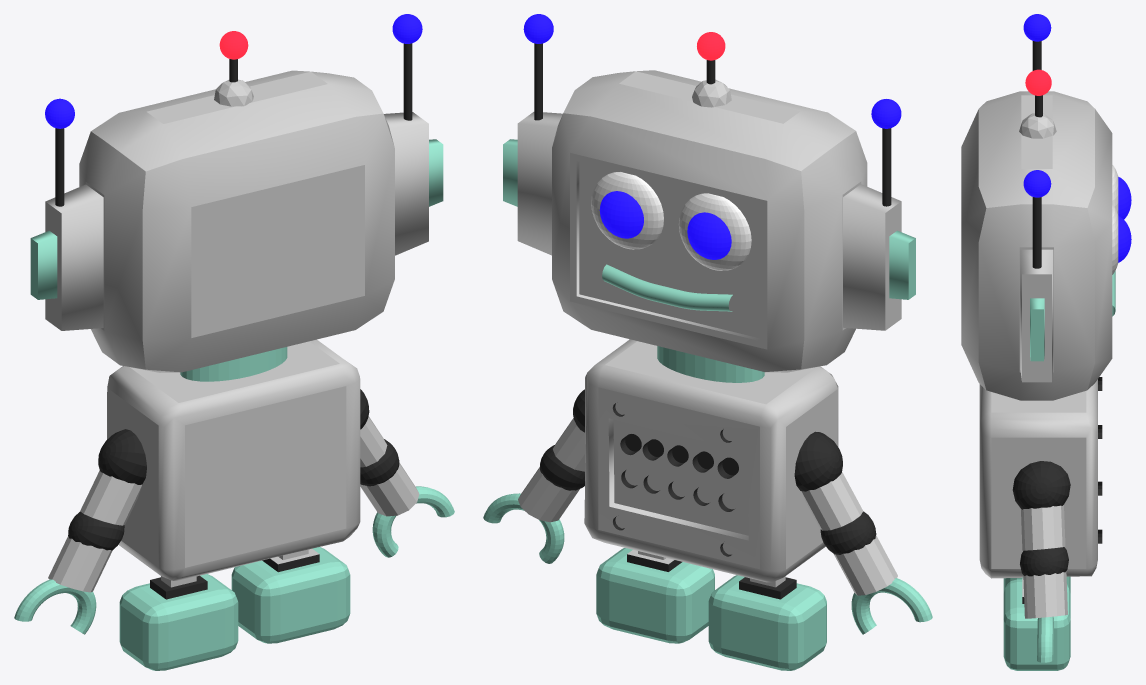
The model's file is Robot.glb.
3 views of the same model, side by side, from view 1: azimuth 30°, elevation 25°; view 2: azimuth 150°, elevation 25°; view 3: azimuth 270°, elevation 25° (orthographic). The views are drawn at different scales.
Parts seen in each view (by area): view 1: Head, Body, Leg_L, Leg_R, Arm_L, Arm_R, Hand_L, Hand_R; view 2: Head, Body, Leg_L, Leg_R, Arm_L, Arm_R, Eye_L, Eye_R, Mouth, Hand_L, Pupil_L, Pupil_R (+1 smaller); view 3: Head, Body, Arm_R, Leg_R, Hand_R, Pupil_R, Pupil_L, Eye_R, Eye_L.
Part boxes in pixels (x1,y1,x2,y2): Head: (30, 14, 443, 372); Body: (107, 339, 360, 580); Leg_L: (119, 574, 238, 670); Leg_R: (231, 547, 350, 643); Arm_L: (48, 429, 146, 592); Arm_R: (360, 389, 419, 516); Hand_L: (14, 579, 96, 634); Hand_R: (372, 486, 454, 557); Head: (503, 14, 915, 372); Body: (584, 339, 838, 582); Leg_L: (708, 575, 826, 670); Leg_R: (596, 548, 714, 643); Arm_L: (794, 431, 897, 595); Arm_R: (518, 389, 584, 522); Eye_L: (678, 193, 751, 270); Eye_R: (591, 172, 663, 249); Mouth: (602, 264, 732, 311); Hand_L: (851, 578, 932, 634); Pupil_L: (687, 212, 731, 259); Pupil_R: (599, 191, 643, 238); Head: (961, 14, 1112, 400); Body: (979, 377, 1102, 578); Arm_R: (1012, 461, 1070, 618); Leg_R: (1003, 578, 1070, 670); Hand_R: (1037, 616, 1053, 662); Pupil_R: (1118, 216, 1131, 262); Pupil_L: (1118, 177, 1131, 219); Eye_R: (1112, 204, 1118, 274); Eye_L: (1112, 165, 1118, 214).
Size of the model in its own units: 2.27 by 2.98 by 0.8198.
